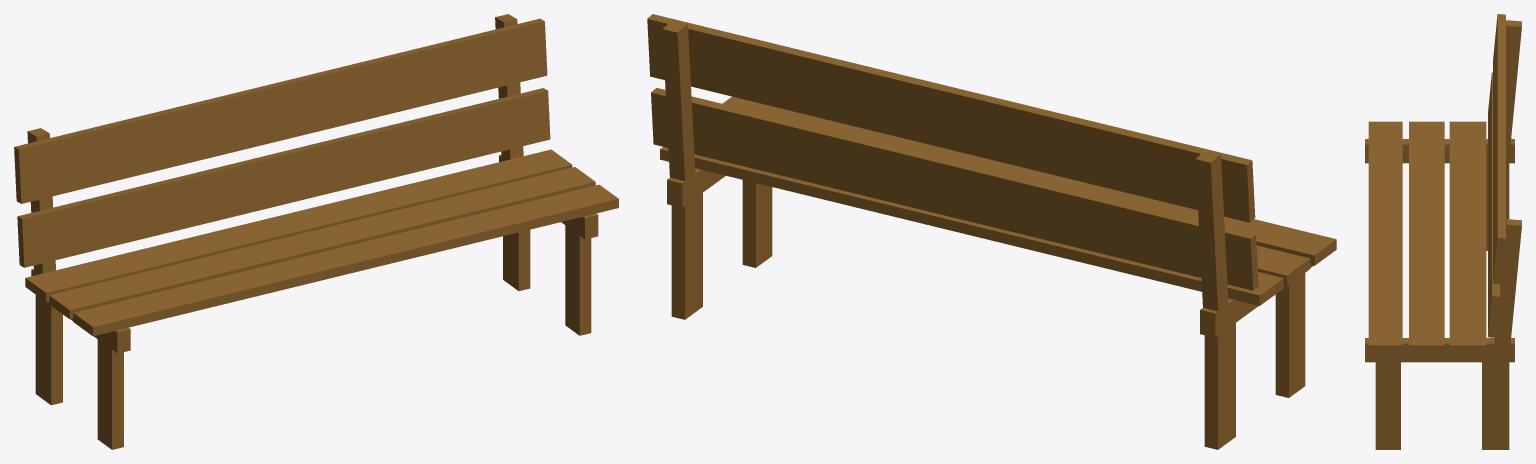
The model's file is Bench.fbx.
The picture shows the model from 3 angles, left to right: view 1: azimuth 30°, elevation 25°; view 2: azimuth 150°, elevation 25°; view 3: azimuth 270°, elevation 25°; orthographic projection. The views are drawn at different scales.
Parts seen in each view (by area): view 1: Bench; view 2: Bench; view 3: Bench.
Boxes of the visible parts, box(x1,y1,x2,y2) form: Bench: box(14, 14, 618, 449); Bench: box(647, 14, 1336, 449); Bench: box(1365, 14, 1521, 449).
Size of the model in its own units: 180 by 84.64 by 53.37.
